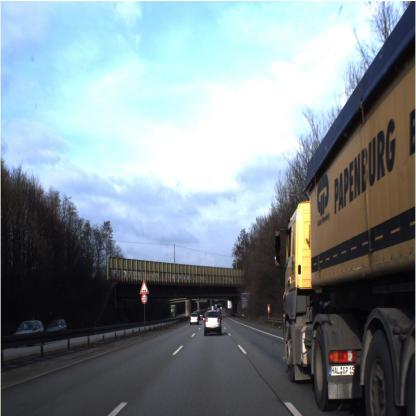speed limit 120: (141, 293, 147, 304)
uneven road: (139, 280, 149, 294)
